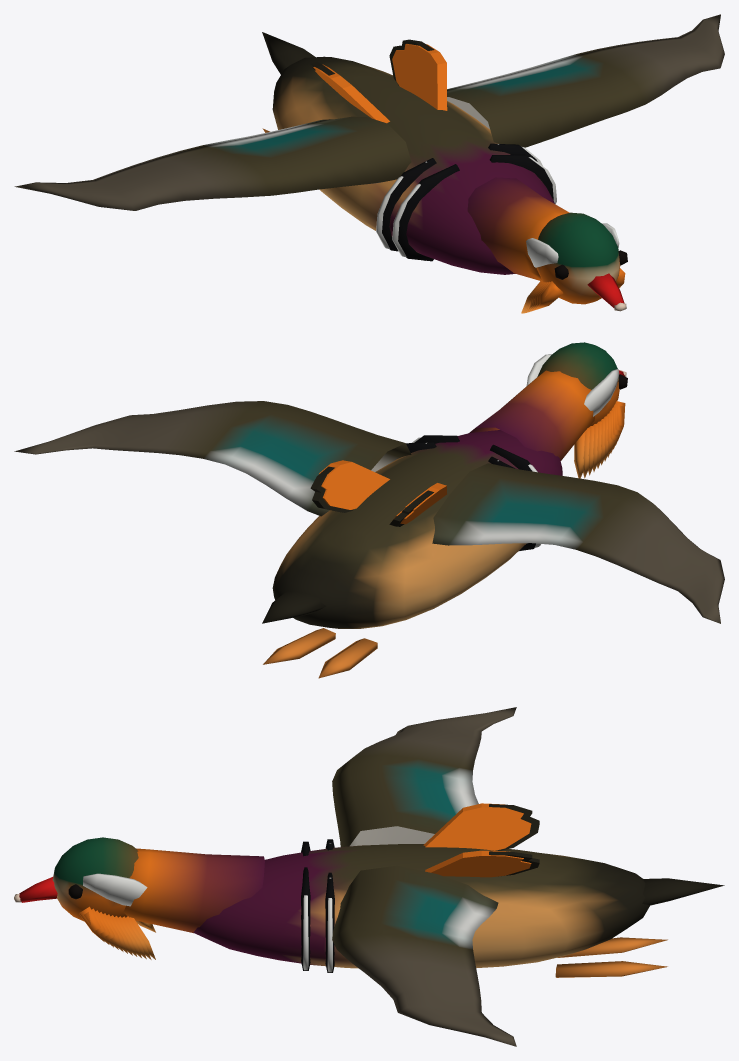
The model's file is MandarinDuckFlight.fbx.
3 renders of one model, top to bottom at view 1: azimuth 30°, elevation 25°; view 2: azimuth 150°, elevation 25°; view 3: azimuth 270°, elevation 25°, orthographic.
Parts seen in each view (by area): view 1: MandarinDuckFlight; view 2: MandarinDuckFlight; view 3: MandarinDuckFlight.
Boxes of the visible parts, x1,y1,x2,y2 form: MandarinDuckFlight: [14, 14, 724, 313]; MandarinDuckFlight: [14, 342, 724, 678]; MandarinDuckFlight: [14, 707, 724, 1046].
Bounding box in the file's own units: 0.86 × 0.162 × 0.7601.
